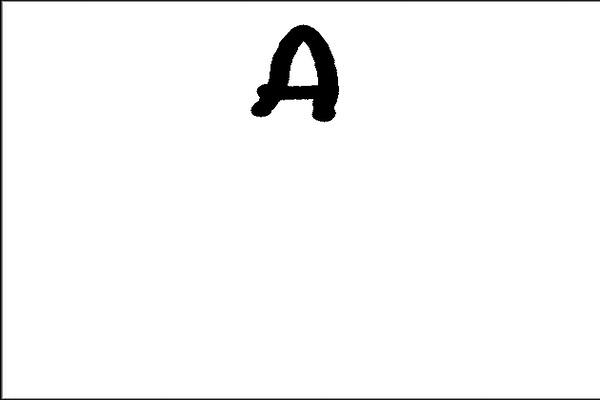A: (227, 18, 349, 124)
